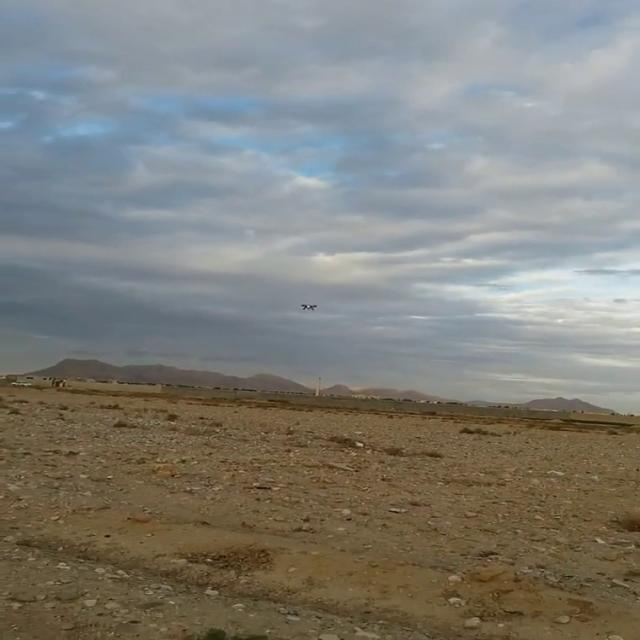drone: (295, 300, 322, 313)
